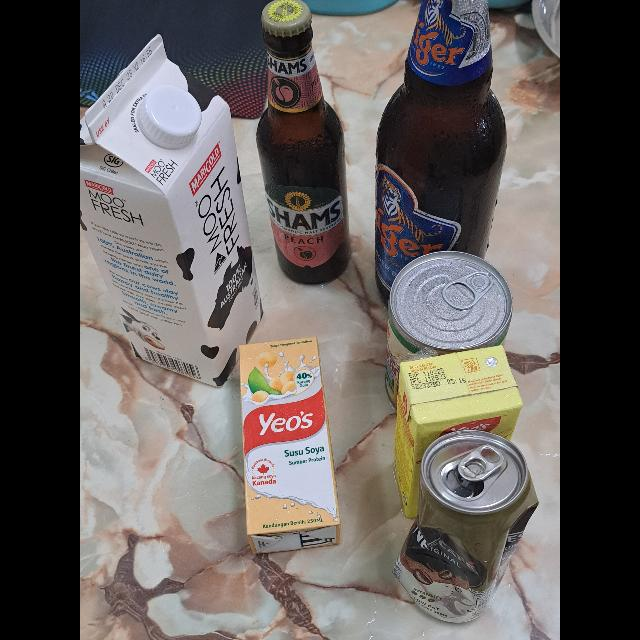aba de lata: (458, 444, 506, 484), (445, 269, 491, 309)
caixinha: (80, 34, 258, 388), (240, 337, 340, 553), (401, 344, 522, 516)
garrafa de vidro: (376, 0, 506, 302), (254, 0, 350, 282)
lata: (392, 430, 540, 622), (386, 252, 514, 401)
tampa plástica: (136, 85, 202, 151)
